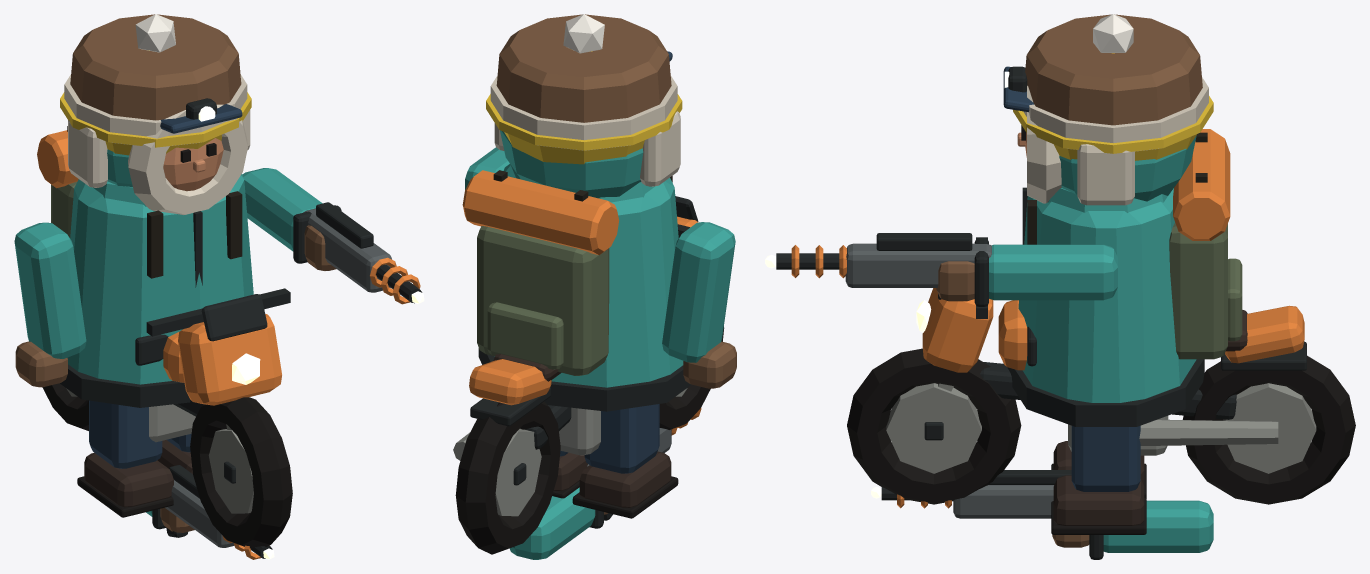
The model's file is explorer.glb.
3 views of the same model, side by side, from view 1: azimuth 30°, elevation 25°; view 2: azimuth 150°, elevation 25°; view 3: azimuth 270°, elevation 25° (orthographic). The views are drawn at different scales.
Visible parts, largest first — view 1: Torso, ChapkaTop, Tyre, ArmL, Fairing, Fur, LegL, SleeveR, BootL, Hem, Rim, GunBody (+28 smaller); view 2: ChapkaTop, Pack, Torso, Tyre.001, Roll, ArmL, Hood, PackPocket, LegL, ChapkaBand, Hem, BootL (+18 smaller); view 3: Torso, ChapkaTop, Tyre, Tyre.001, SleeveR, Pack, Rim, Hem, Rim.001, Roll, LegR, VMSleeve (+24 smaller).
Part boxes in pixels (left/top/right/bottom): Torso: left=67, top=174, right=253, bottom=384; ChapkaTop: left=70, top=14, right=241, bottom=120; Tyre: left=190, top=397, right=292, bottom=548; ArmL: left=14, top=222, right=86, bottom=358; Fairing: left=178, top=314, right=281, bottom=405; Fur: left=128, top=104, right=247, bottom=214; LegL: left=89, top=400, right=162, bottom=468; SleeveR: left=242, top=168, right=322, bottom=251; BootL: left=84, top=453, right=173, bottom=507; Hem: left=60, top=364, right=190, bottom=407; Rim: left=208, top=429, right=253, bottom=513; GunBody: left=303, top=208, right=391, bottom=292; ChapkaTop: left=496, top=14, right=671, bottom=122; Pack: left=477, top=226, right=609, bottom=375; Torso: left=494, top=164, right=683, bottom=387; Tyre.001: left=455, top=401, right=560, bottom=554; Roll: left=462, top=170, right=619, bottom=255; ArmL: left=662, top=222, right=735, bottom=362; Hood: left=500, top=130, right=643, bottom=198; PackPocket: left=487, top=302, right=563, bottom=369; LegL: left=584, top=404, right=659, bottom=473; ChapkaBand: left=490, top=75, right=677, bottom=150; Hem: left=478, top=348, right=691, bottom=411; BootL: left=579, top=451, right=671, bottom=507; Torso: left=1018, top=188, right=1196, bottom=402; ChapkaTop: left=1025, top=14, right=1202, bottom=125; Tyre: left=847, top=348, right=1021, bottom=504; Tyre.001: left=1182, top=355, right=1355, bottom=504; SleeveR: left=989, top=244, right=1117, bottom=300; Pack: left=1169, top=222, right=1227, bottom=359; Rim: left=886, top=383, right=981, bottom=473; Hem: left=1007, top=359, right=1204, bottom=426; Rim.001: left=1223, top=383, right=1316, bottom=473; Roll: left=1173, top=129, right=1230, bottom=240; LegR: left=1071, top=425, right=1140, bottom=491; VMSleeve: left=1103, top=500, right=1213, bottom=552.
Bounding box in the file's own units: 1.31 × 2.45 × 2.47.
